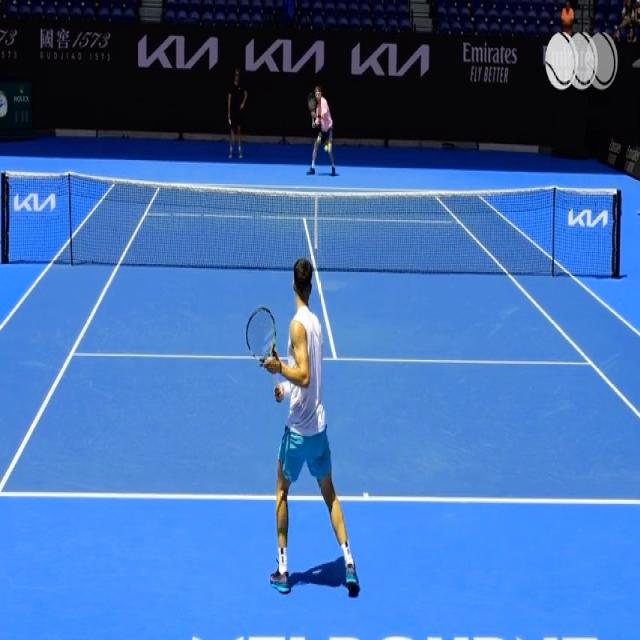forehand-finish: (244, 262, 368, 600)
